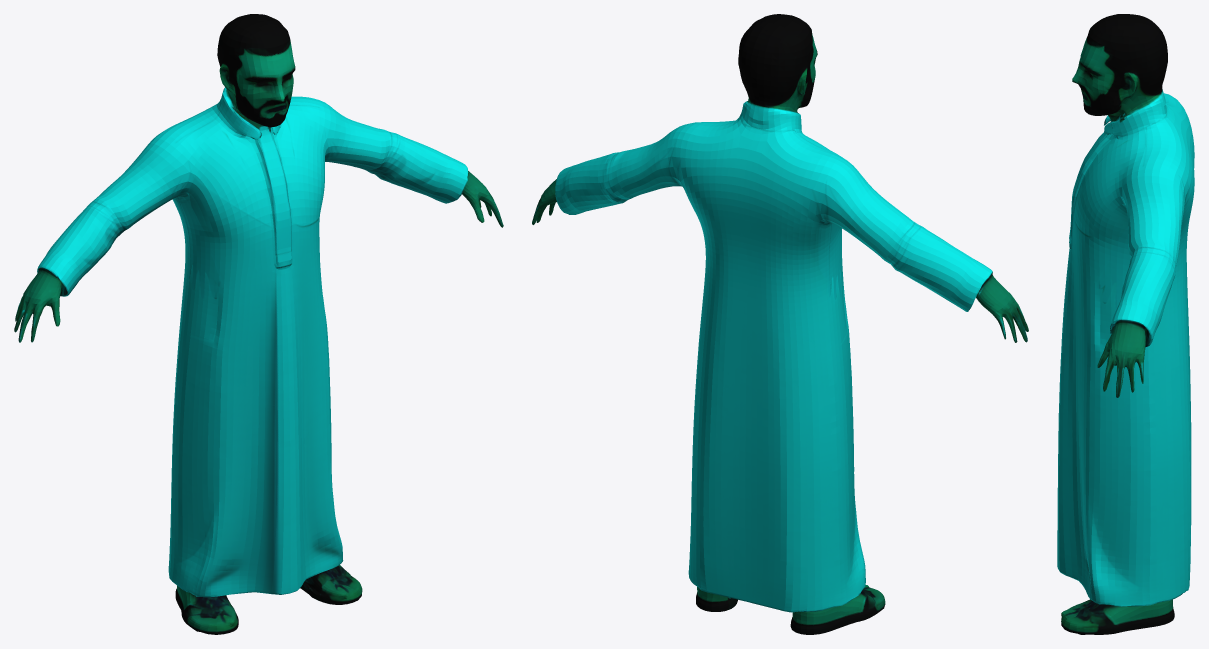
The model's file is man.glb.
The picture shows the model from 3 angles, left to right: view 1: azimuth 30°, elevation 25°; view 2: azimuth 150°, elevation 25°; view 3: azimuth 270°, elevation 25°; orthographic projection.
Parts seen in each view (by area): view 1: Object_7; view 2: Object_7; view 3: Object_7.
Boxes of the visible parts, x1,y1,x2,y2 form: Object_7: (14,14,503,634); Object_7: (532,14,1028,634); Object_7: (1057,14,1194,634).
Size of the model in its own units: 1.67 by 1.9 by 0.4102.
Materials: 1 (1 with a texture image).
